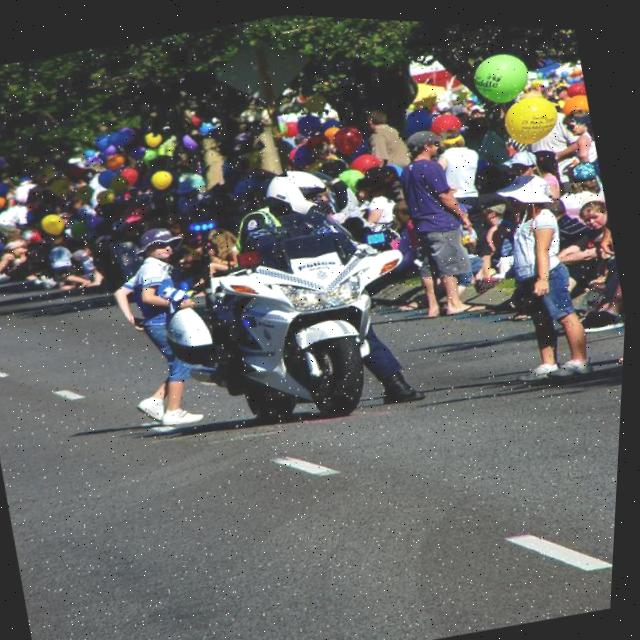motorcycle: (139, 214, 446, 458)
